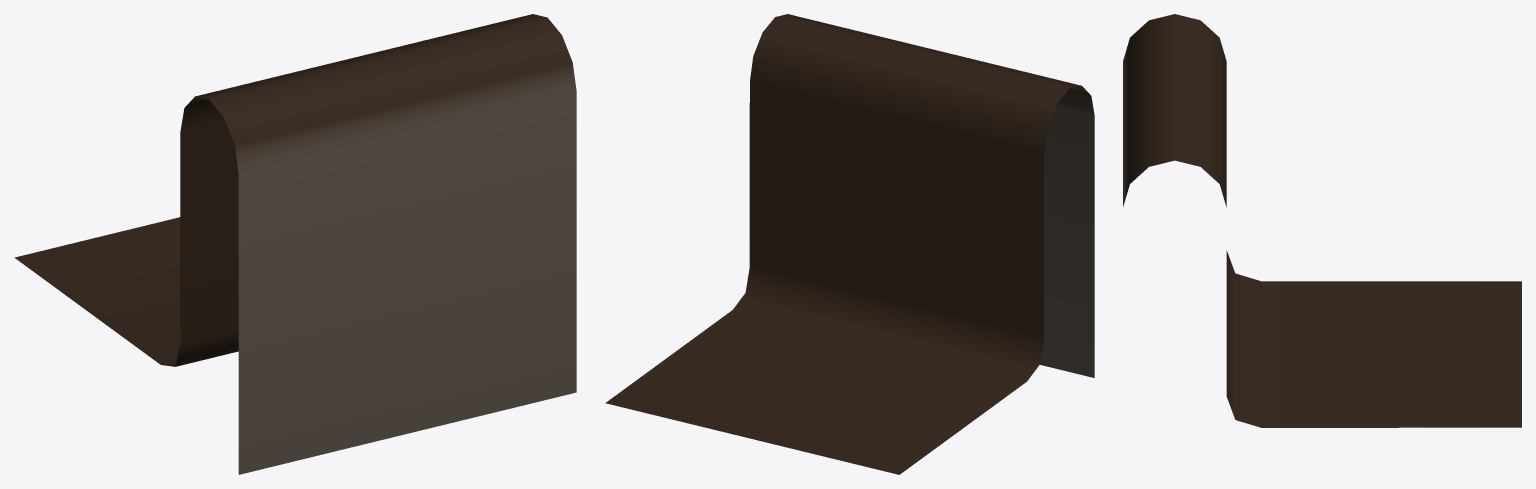
File: Base_PoolBoard.fbx
3 views of the same model, side by side, from view 1: azimuth 30°, elevation 25°; view 2: azimuth 150°, elevation 25°; view 3: azimuth 270°, elevation 25° (orthographic). The views are drawn at different scales.
Parts seen in each view (by area): view 1: Base_PoolBoard; view 2: Base_PoolBoard; view 3: Base_PoolBoard.
Boxes of the visible parts, x1,y1,x2,y2 form: Base_PoolBoard: (15, 14, 576, 474); Base_PoolBoard: (605, 14, 1094, 474); Base_PoolBoard: (1123, 14, 1521, 427).
Size of the model in its own units: 2000 by 2000 by 2300.
